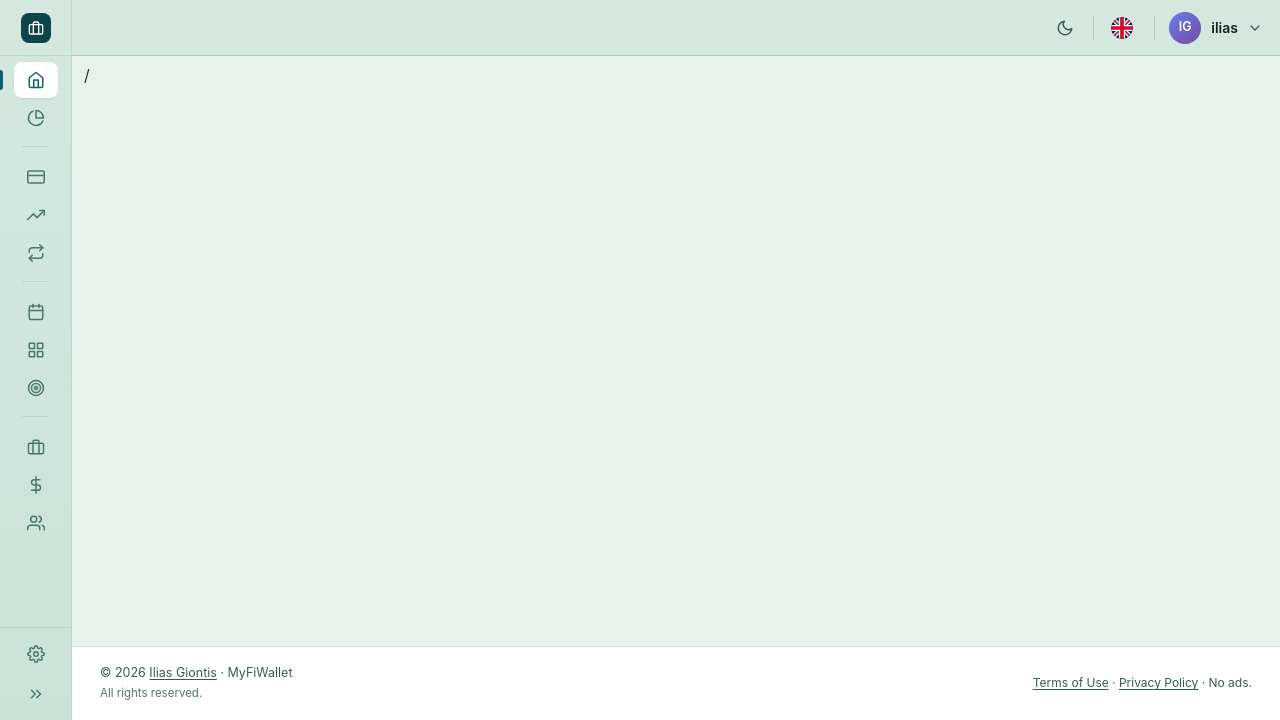
Test: an item with pages under it › on the collapsed rail opens its pages beside the icon, and closes on a choice
This screenshot has width=1280, height=720.
Step 1. Click the 1st button named "Transactions" → (36, 177), box x1=14 y1=159 x2=58 y2=195
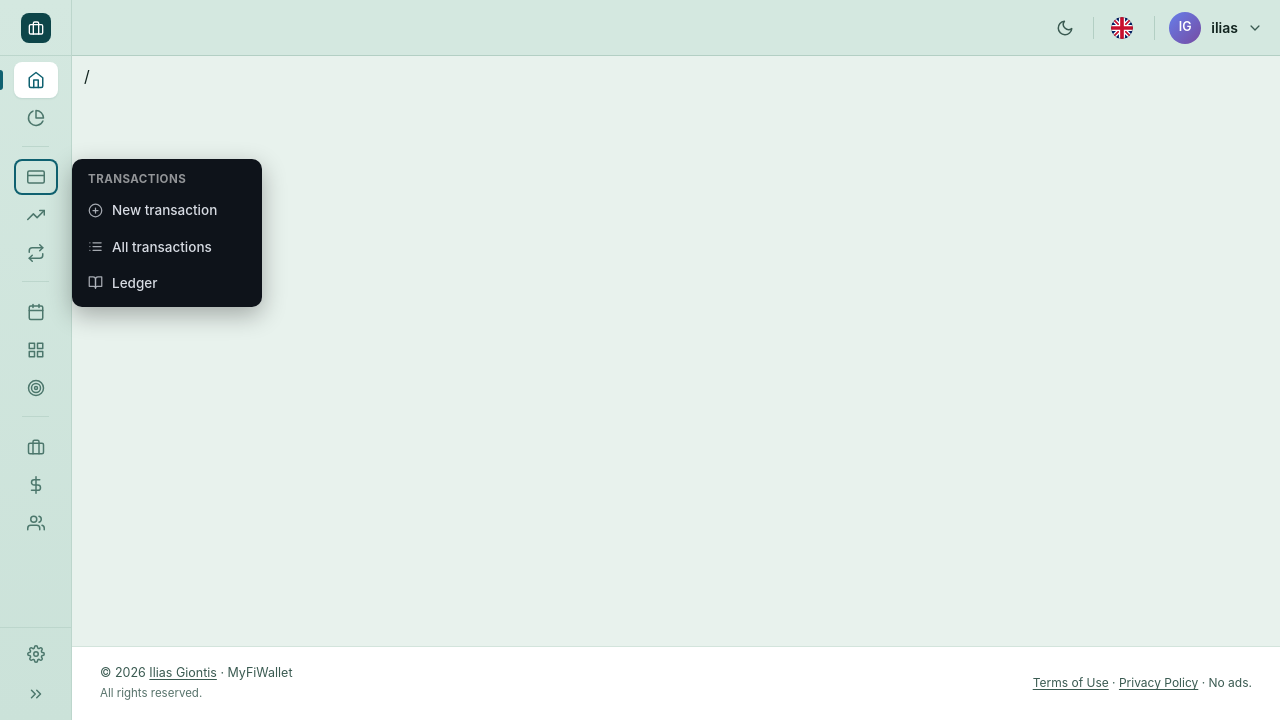
Check: the element with class "sidebar-flyout" shows "Transactions", box x1=88 y1=172 x2=186 y2=186
Step 2. Click the link "All transactions" → (150, 246), box x1=88 y1=238 x2=212 y2=254
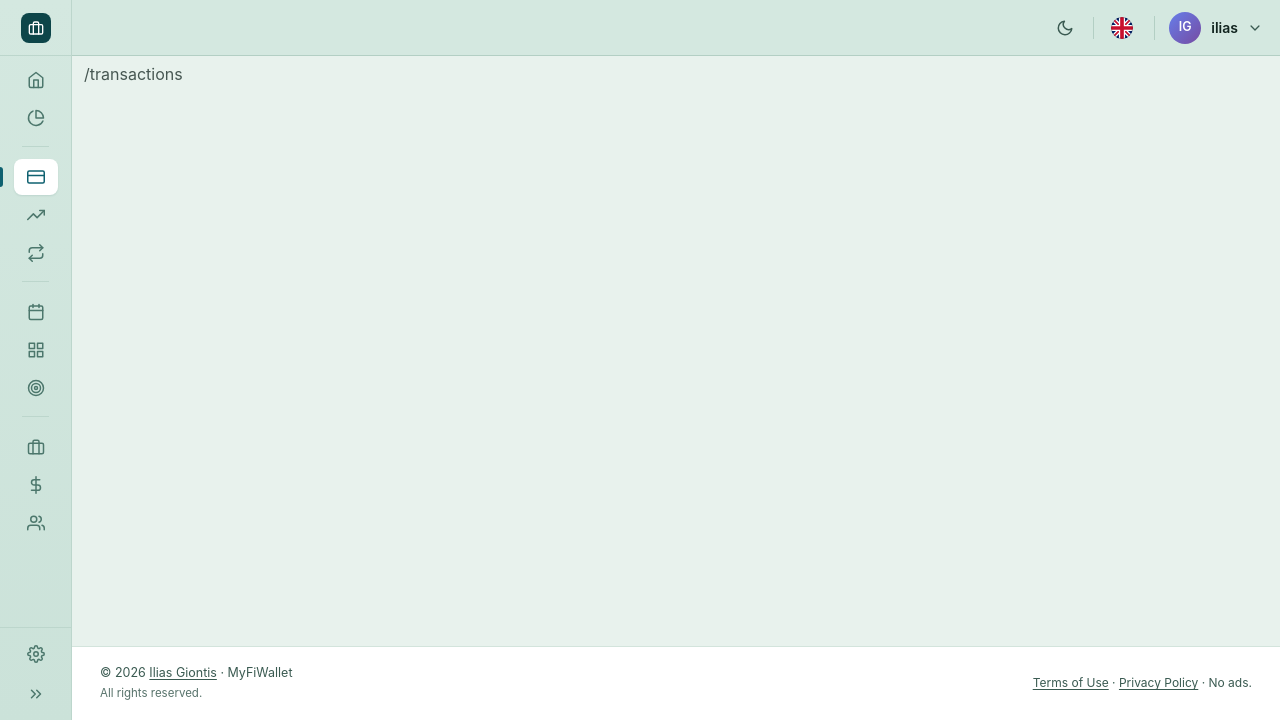
Check: the text with test id "path" reads "/transactions", box x1=84 y1=65 x2=183 y2=85
Check: the element with class "sidebar-flyout" is gone
